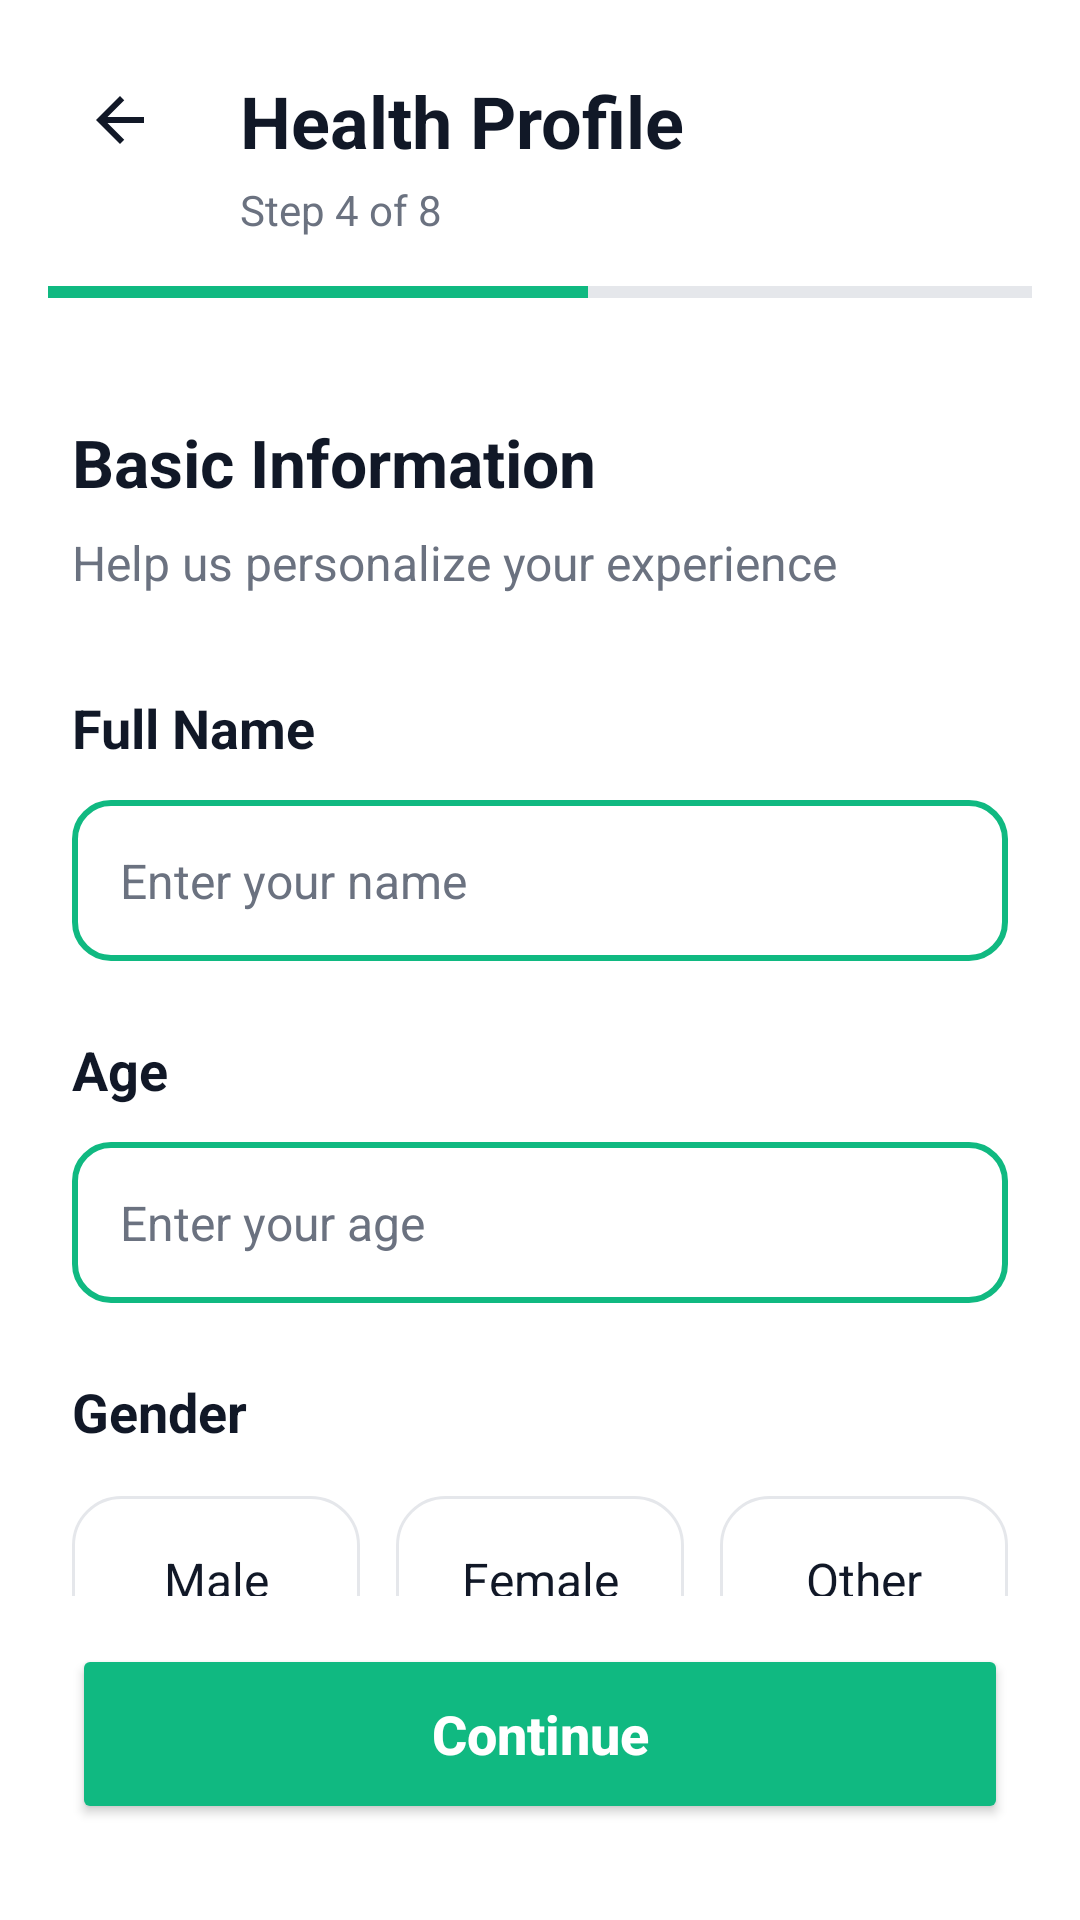

Where to tap for icons on this 1080px×1920px app screen, as [x,y]:
arrow back: [120,120]
